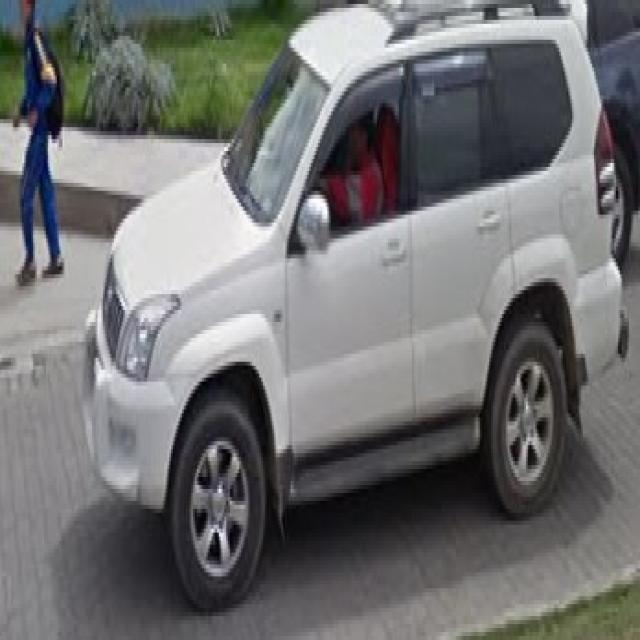cars: (87, 2, 622, 611)
